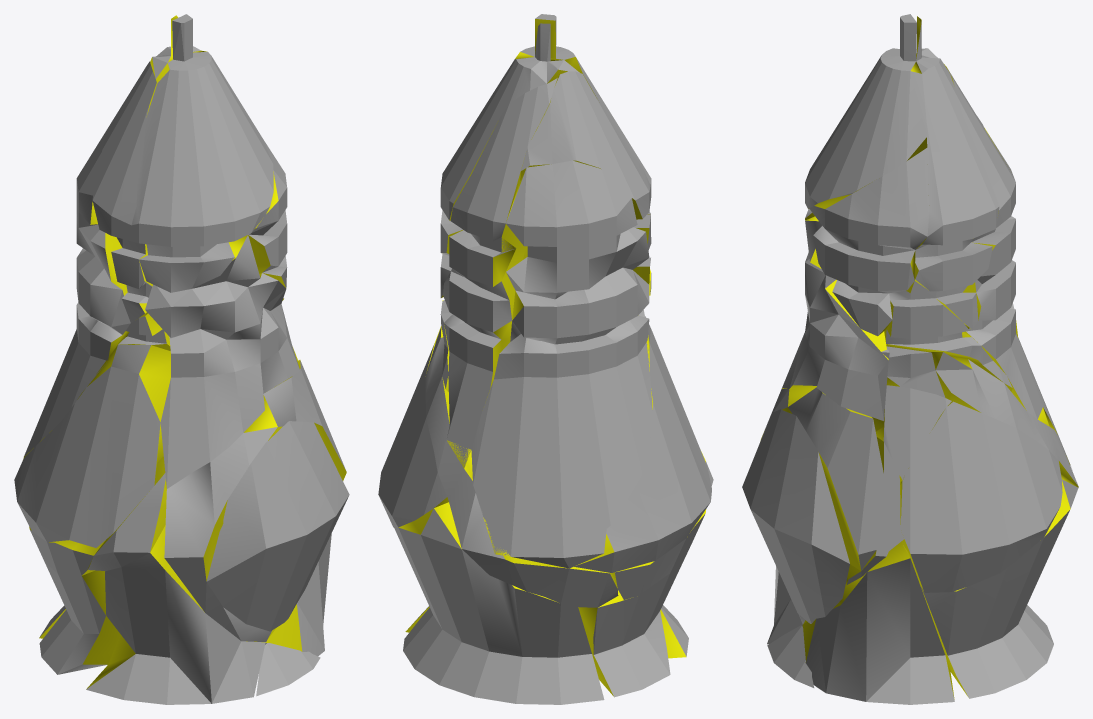
The model's file is SpireShattered.fbx.
3 views of the same model, side by side, from view 1: azimuth 30°, elevation 25°; view 2: azimuth 150°, elevation 25°; view 3: azimuth 270°, elevation 25° (orthographic).
Parts seen in each view (by area): view 1: shard1, shard6, shard14, shard7, shard21, shard19, shard18, shard12, shard20, shard13, shard22, shard9 (+3 smaller); view 2: shard18, shard17, shard8, shard14, shard15, shard12, shard20, shard3, shard2, shard5, shard1, shard7 (+1 smaller); view 3: shard2, shard7, shard3, shard21, shard22, shard17, shard1, shard6, shard19, shard8, shard4, shard15 (+4 smaller).
Boxes of the visible parts, <box> form: shard1: <box>131,14,273,292</box>; shard6: <box>145,235,300,488</box>; shard14: <box>14,344,170,547</box>; shard7: <box>86,525,331,704</box>; shard21: <box>206,421,349,631</box>; shard19: <box>164,360,346,641</box>; shard18: <box>23,129,130,459</box>; shard12: <box>92,61,157,322</box>; shard20: <box>39,564,120,674</box>; shard13: <box>88,456,166,570</box>; shard22: <box>248,138,287,287</box>; shard9: <box>256,643,320,696</box>; shard18: <box>471,160,652,568</box>; shard17: <box>394,497,604,704</box>; shard8: <box>443,78,557,468</box>; shard14: <box>574,316,711,572</box>; shard15: <box>425,300,618,607</box>; shard12: <box>520,71,651,284</box>; shard20: <box>578,542,692,697</box>; shard3: <box>440,23,579,297</box>; shard2: <box>378,350,446,527</box>; shard5: <box>612,509,706,599</box>; shard1: <box>515,14,651,214</box>; shard7: <box>405,605,688,658</box>; shard2: <box>900,401,1062,592</box>; shard7: <box>767,541,954,704</box>; shard3: <box>915,16,999,329</box>; shard21: <box>742,409,849,623</box>; shard22: <box>809,148,929,336</box>; shard17: <box>921,474,1078,698</box>; shard1: <box>805,14,926,220</box>; shard6: <box>782,216,888,420</box>; shard19: <box>761,386,883,624</box>; shard8: <box>944,64,1049,426</box>; shard4: <box>884,280,1012,391</box>; shard15: <box>928,352,1078,487</box>.
Bounding box in the file's own units: 8.31 × 17.03 × 8.31.
